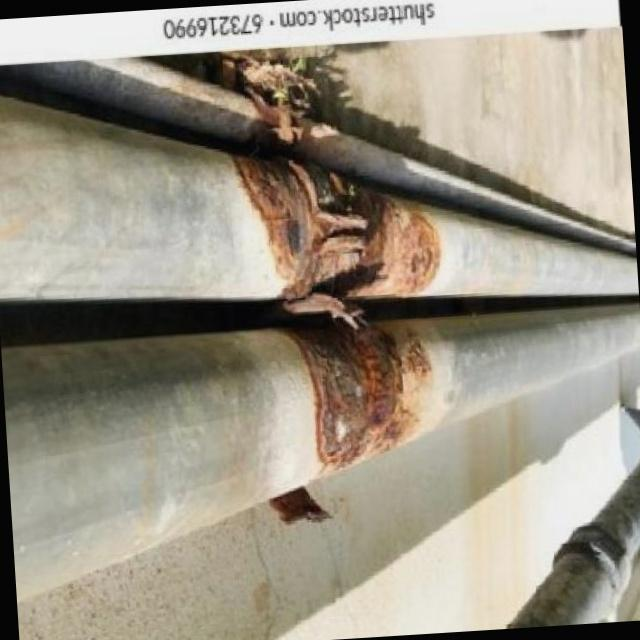rust: (223, 144, 448, 318), (283, 323, 424, 467)
